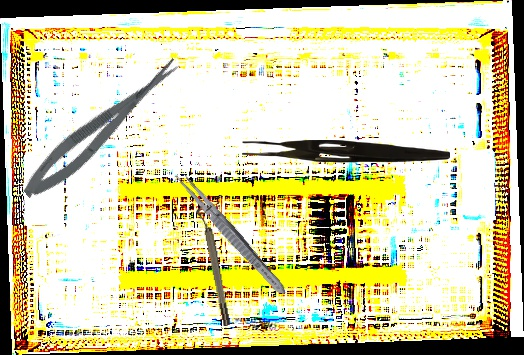Dressing Forceps: (171, 169, 291, 299), (242, 140, 450, 163)
Fixation Ring: (195, 204, 233, 328)
Micro Scissor: (14, 51, 190, 207)
